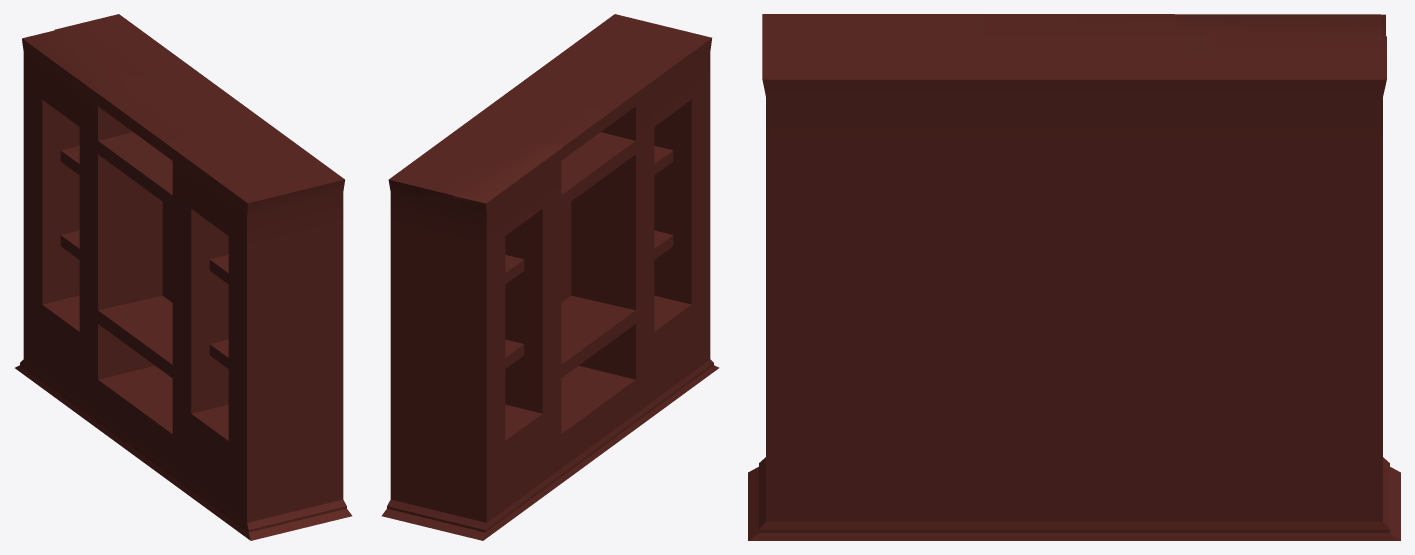
Rendered from armarioEstante.FBX.
3 views of the same model, side by side, from view 1: azimuth 30°, elevation 25°; view 2: azimuth 150°, elevation 25°; view 3: azimuth 270°, elevation 25° (orthographic). The views are drawn at different scales.
Parts seen in each view (by area): view 1: Box001; view 2: Box001; view 3: Box001.
Part boxes in pixels (x1=…): Box001: x1=15, y1=14, x2=352, y2=540; Box001: x1=381, y1=14, x2=719, y2=540; Box001: x1=748, y1=14, x2=1400, y2=540.
Bounding box in the file's own units: 35.99 × 113 × 145.
